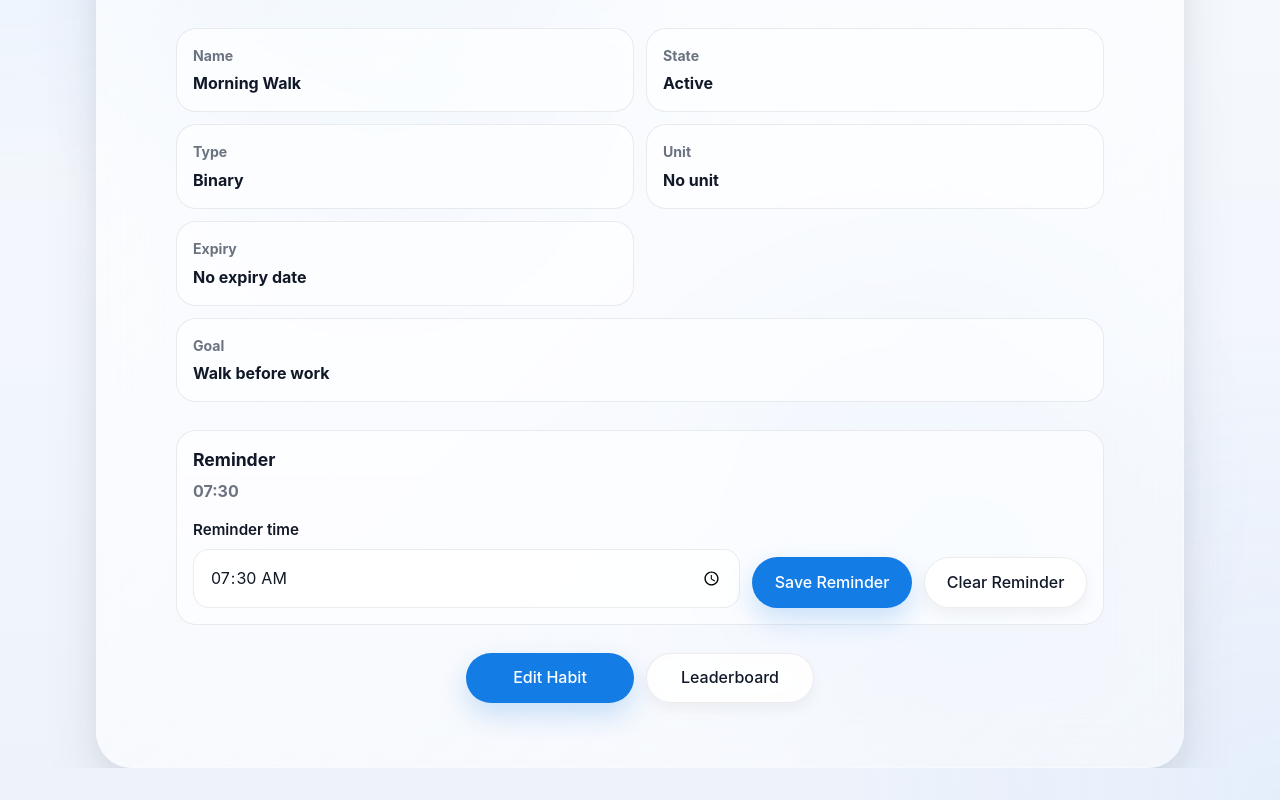
Test: clears an existing reminder time
The width and height of the screenshot is (1280, 800).
(page scrolled)
Expected: the time field labelled "Reminder time" holds "07:30", [193,549,740,608]
Click the button "Clear Reminder": (1006, 582) [924,557,1087,608]
(page scrolled)
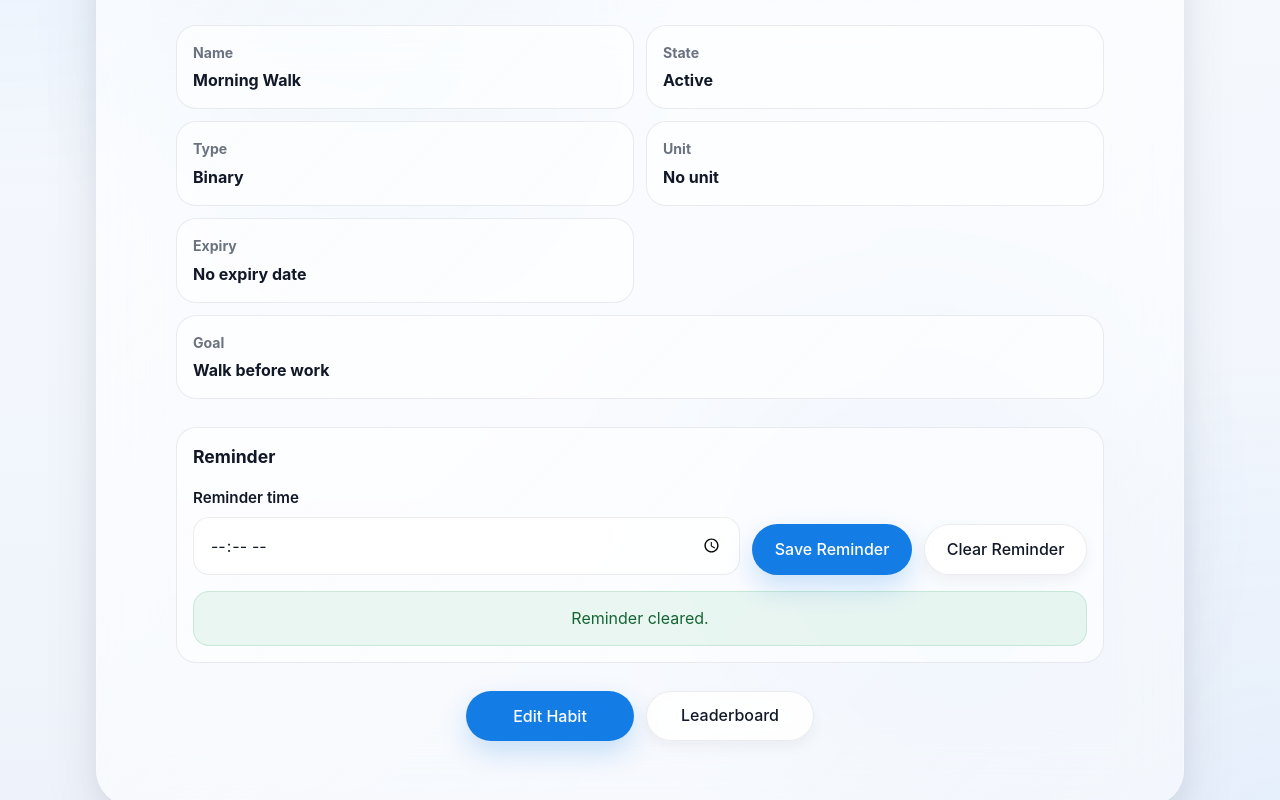
Expected: the text "Reminder cleared." is shown, [193,591,1087,646]
Expected: the time field labelled "Reminder time" is empty, [193,517,740,575]
